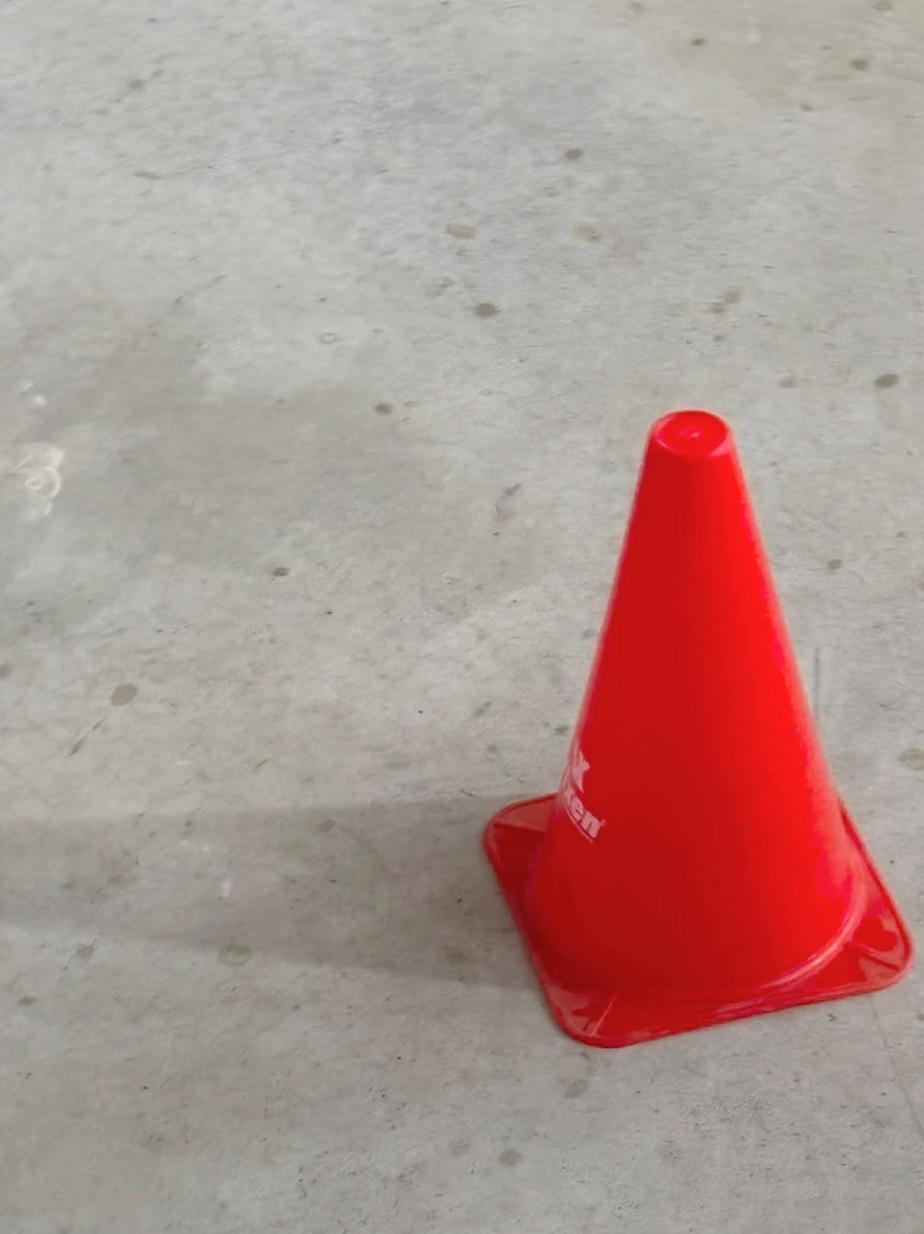0 cone: (484, 408, 912, 1047)
